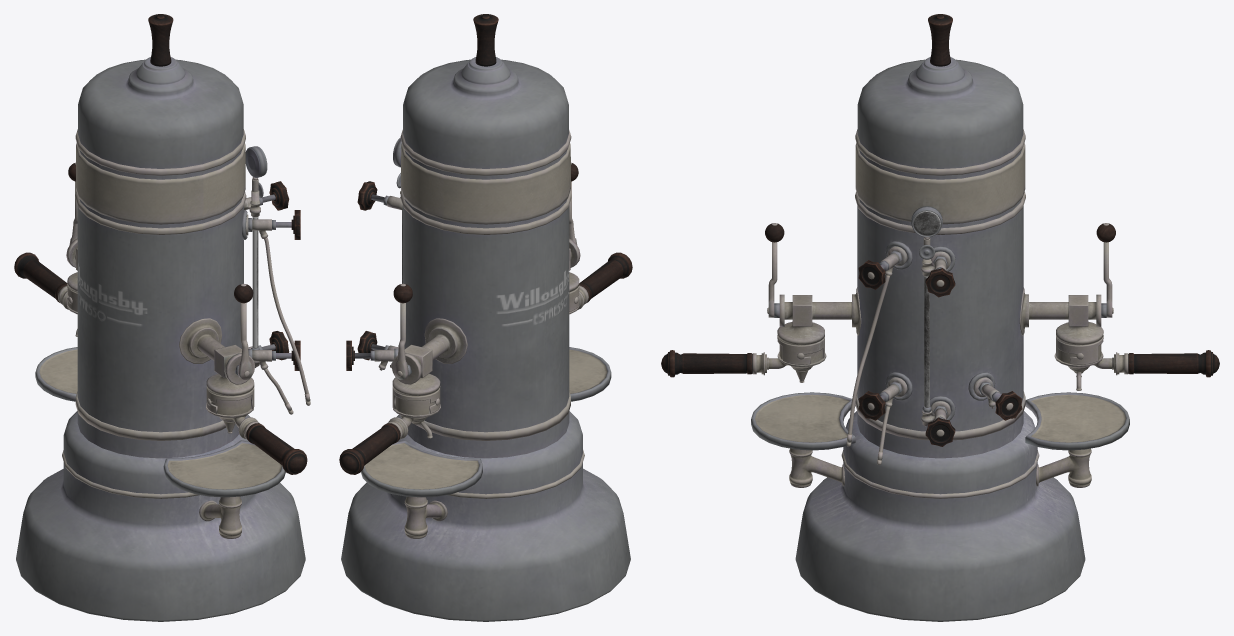
Rendered from Espresso_unready.fbx.
The picture shows the model from 3 angles, left to right: view 1: azimuth 30°, elevation 25°; view 2: azimuth 150°, elevation 25°; view 3: azimuth 270°, elevation 25°; orthographic projection.
Parts seen in each view (by area): view 1: willoughsby-espresso-1-base, willoughsby-espresso-1-flask-L, willoughsby-espresso-1-flask-R, willoughsby-espresso-1-lever-R, willoughsby-espresso-1-glass; view 2: willoughsby-espresso-1-base, willoughsby-espresso-1-flask-R, willoughsby-espresso-1-flask-L, willoughsby-espresso-1-lever-L; view 3: willoughsby-espresso-1-base, willoughsby-espresso-1-flask-R, willoughsby-espresso-1-flask-L, willoughsby-espresso-1-glass, willoughsby-espresso-1-lever-L, willoughsby-espresso-1-lever-R.
Part boxes in pixels (<box>): willoughsby-espresso-1-base: <box>16,14,310,621</box>; willoughsby-espresso-1-flask-L: <box>206,396,307,474</box>; willoughsby-espresso-1-flask-R: <box>14,252,77,336</box>; willoughsby-espresso-1-lever-R: <box>234,283,253,379</box>; willoughsby-espresso-1-glass: <box>252,217,258,348</box>; willoughsby-espresso-1-base: <box>341,14,630,621</box>; willoughsby-espresso-1-flask-R: <box>339,396,440,474</box>; willoughsby-espresso-1-flask-L: <box>569,252,632,314</box>; willoughsby-espresso-1-lever-L: <box>393,283,412,379</box>; willoughsby-espresso-1-base: <box>751,14,1129,621</box>; willoughsby-espresso-1-flask-R: <box>1054,344,1219,390</box>; willoughsby-espresso-1-flask-L: <box>661,344,826,382</box>; willoughsby-espresso-1-glass: <box>913,211,940,407</box>; willoughsby-espresso-1-lever-L: <box>1096,223,1115,317</box>; willoughsby-espresso-1-lever-R: <box>765,223,784,317</box>.
Bounding box in the file's own units: 56.18 × 117 × 108.
Materials: 1 (1 with a texture image).
